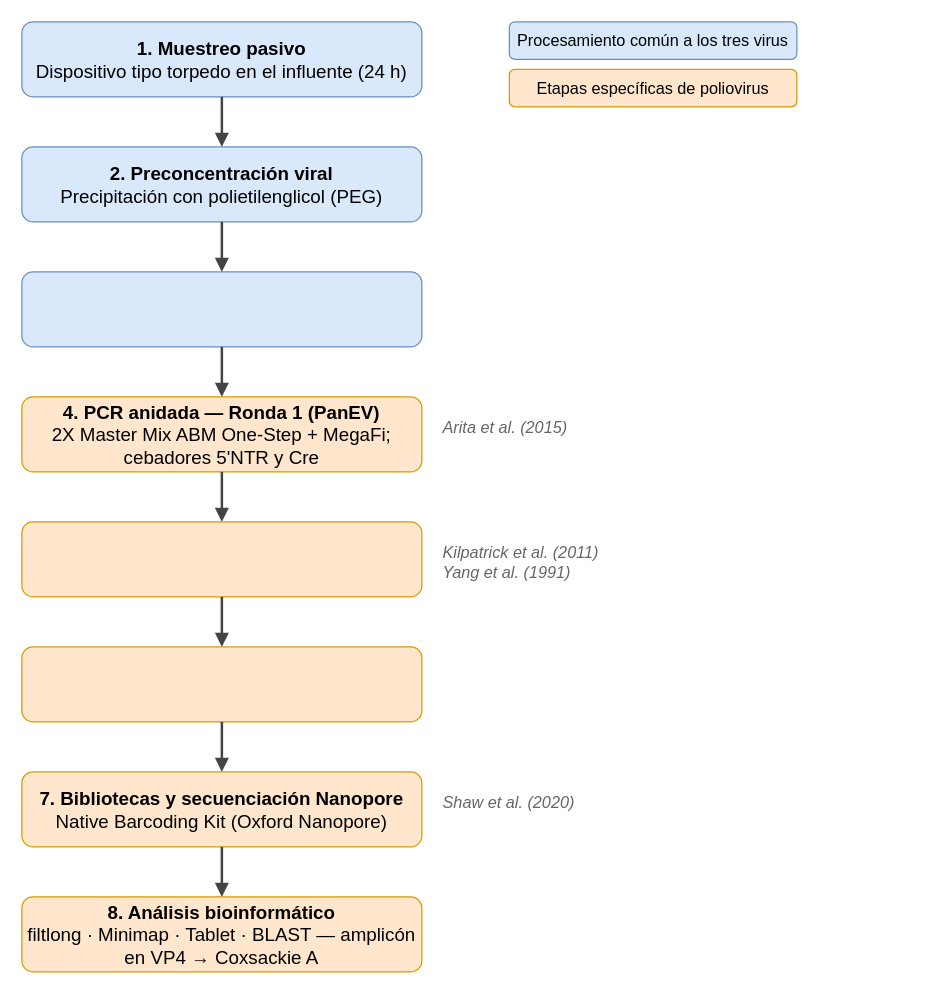
Image size: 940x994. Some labels were removed from this diagram. The centre of each missing label's shape, as x and y in pixels:
3. Extracción de ARN Kit Quick-RNA Viral (Zymo Research): point (221, 309)
5. PCR anidada — Ronda 2 (VP1) Q5 Master Mix; cebadores Y7 y Q8: point (221, 559)
6. Electroforesis en gel de agarosa Confirmación de amplificación: point (221, 684)
